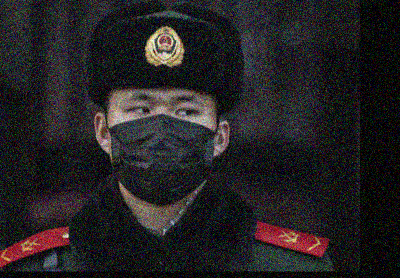with_mask: (104, 90, 216, 204)
